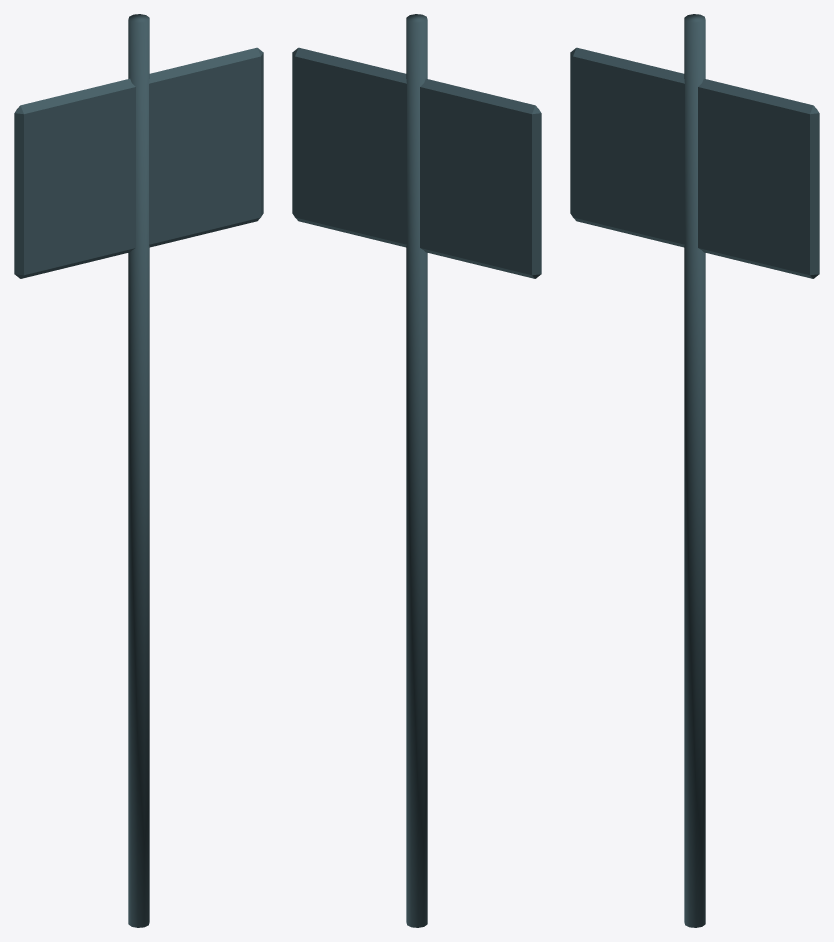
File: blank_signpost.glb
The picture shows the model from 3 angles, left to right: view 1: azimuth 30°, elevation 25°; view 2: azimuth 150°, elevation 25°; view 3: azimuth 330°, elevation 25°; orthographic projection.
Parts seen in each view (by area): view 1: blank_signpost__VVK_painted_steel; view 2: blank_signpost__VVK_painted_steel; view 3: blank_signpost__VVK_painted_steel.
Part boxes in pixels (x1=…): blank_signpost__VVK_painted_steel: x1=14, y1=14, x2=263, y2=927; blank_signpost__VVK_painted_steel: x1=292, y1=14, x2=541, y2=927; blank_signpost__VVK_painted_steel: x1=570, y1=14, x2=819, y2=927.
Bounding box in the file's own units: 0.72 × 2.5 × 0.054.
